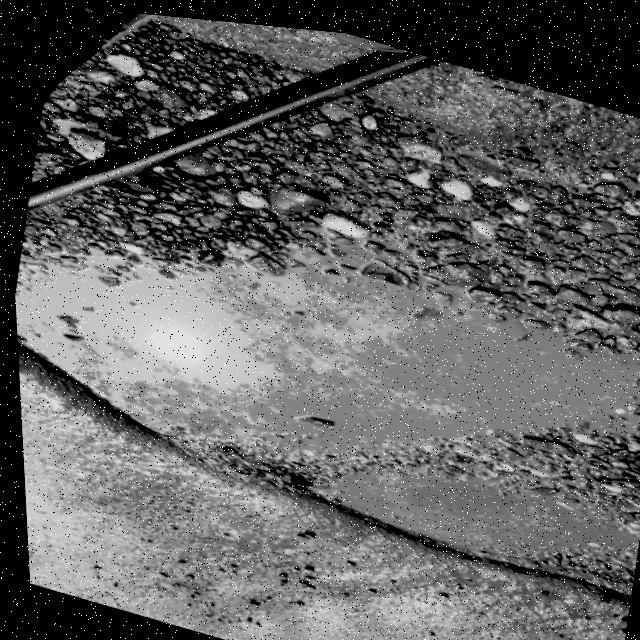pothole: (6, 151, 640, 606)
